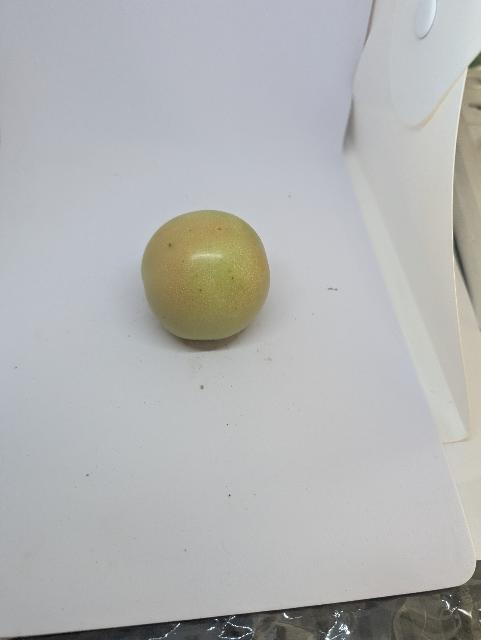breaker: (141, 208, 273, 342)
